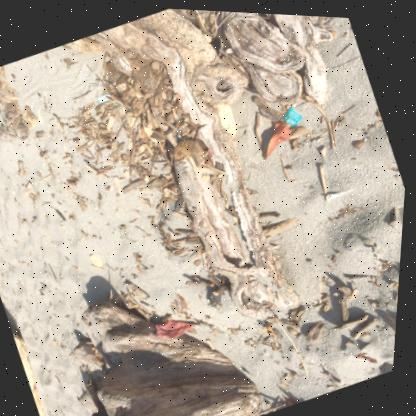Plastic: (283, 104, 304, 123), (327, 185, 354, 196), (111, 102, 121, 108)
Waste: (97, 92, 110, 103)
